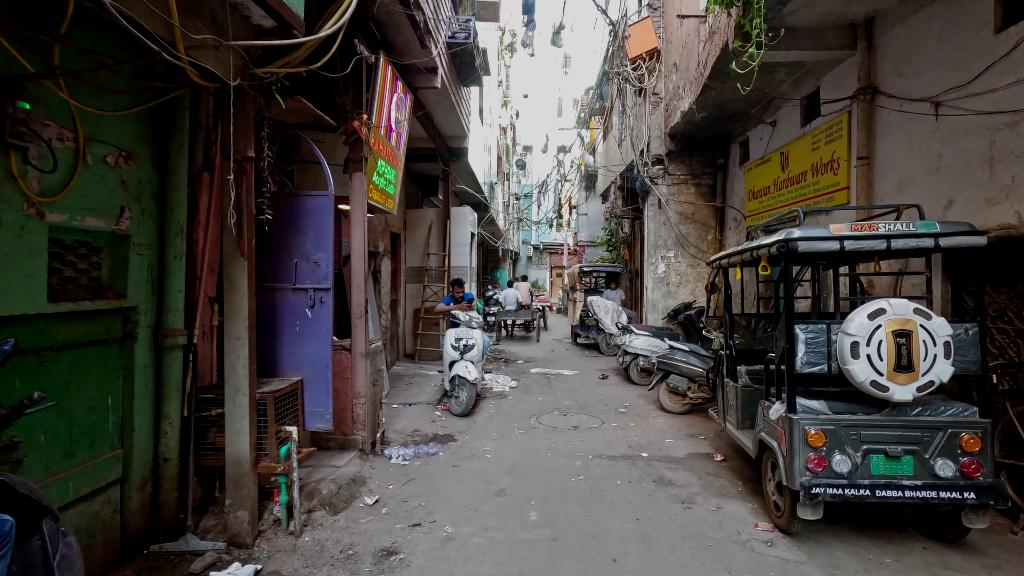garbage: (384, 441, 443, 462), (483, 372, 518, 391), (754, 520, 776, 531), (713, 453, 727, 463)
